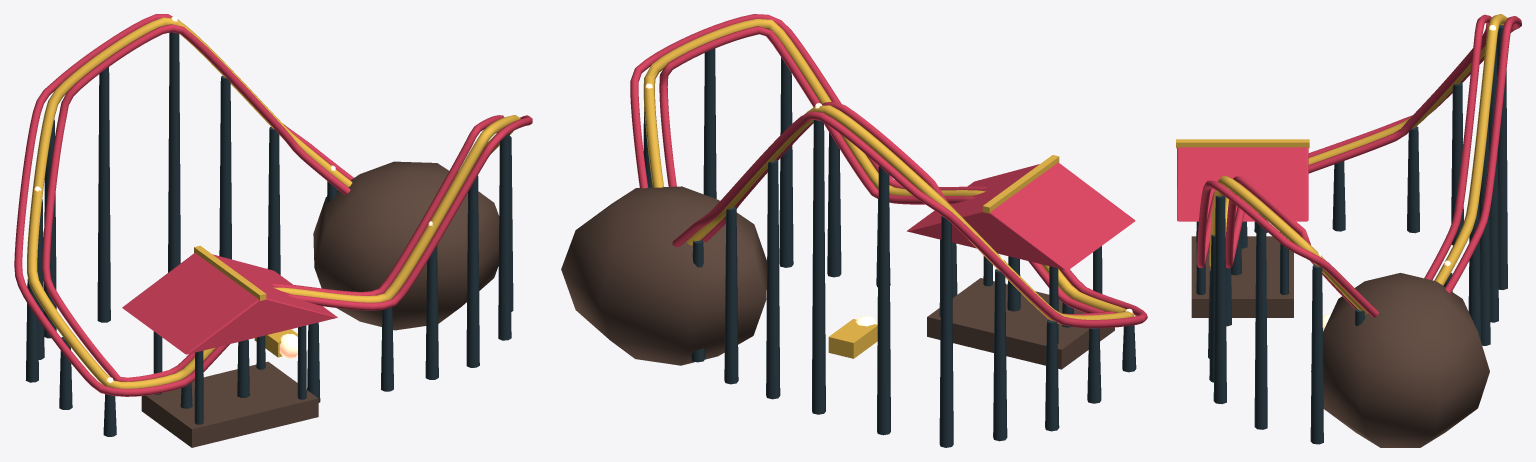
The model's file is lava-coaster.glb.
3 renders of one model, left to right at view 1: azimuth 30°, elevation 25°; view 2: azimuth 150°, elevation 25°; view 3: azimuth 270°, elevation 25°, orthographic. The views are drawn at different scales.
Parts seen in each view (by area): view 1: Mesh_crimson, Mesh_cliffDark, Mesh_iron, Mesh_gold; view 2: Mesh_cliffDark, Mesh_iron, Mesh_crimson, Mesh_gold (×2); view 3: Mesh_cliffDark, Mesh_iron, Mesh_crimson, Mesh_gold.
Boxes of the visible parts, <box> form: Mesh_crimson: <box>14,14,532,396</box>; Mesh_cliffDark: <box>141,161,499,447</box>; Mesh_iron: <box>25,32,513,436</box>; Mesh_gold: <box>27,17,520,388</box>; Mesh_cliffDark: <box>561,186,1114,369</box>; Mesh_iron: <box>643,48,1136,447</box>; Mesh_crimson: <box>630,14,1147,328</box>; Mesh_gold (×2): <box>643,19,1134,358</box>; Mesh_cliffDark: <box>1191,236,1489,447</box>; Mesh_iron: <box>1196,25,1507,444</box>; Mesh_crimson: <box>1177,14,1521,317</box>; Mesh_gold: <box>1176,14,1507,314</box>.
Bounding box in the file's own units: 11.82 × 7.64 × 7.46.
